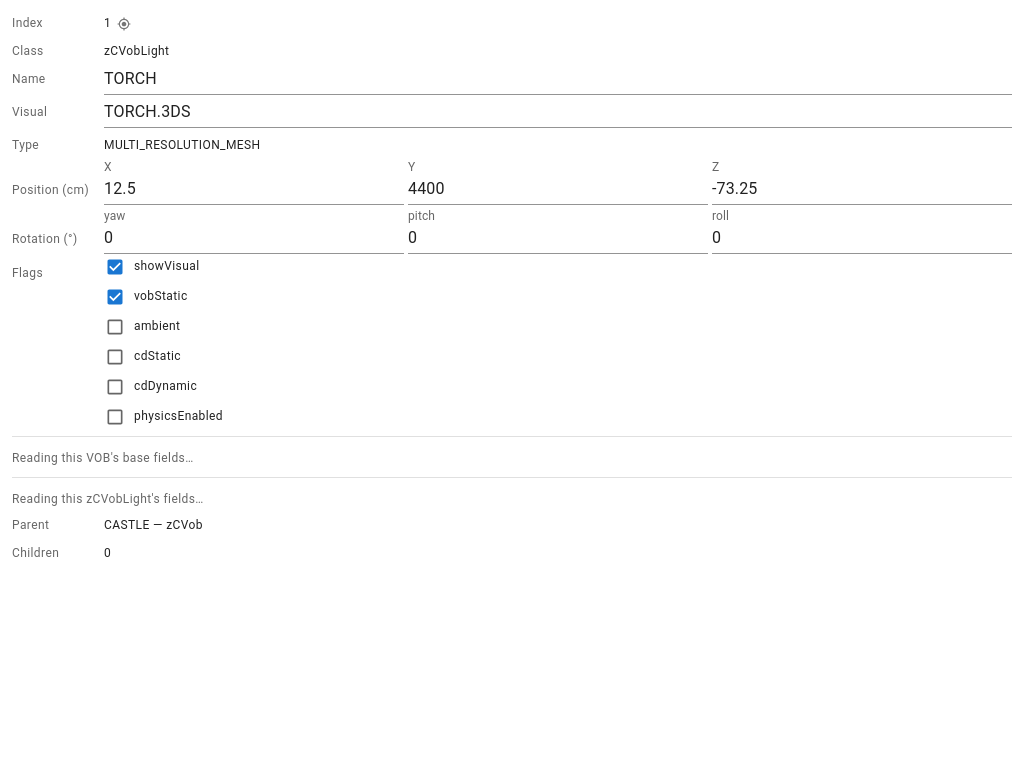
Test: WorldPropertyGrid, editing › reverts to the VOB's own value on Escape
Step 1. Replace the text in the field with test id "world-prop-name-input" with "TYPED_BY_MISTAKE" → (558, 80), box [104,66,1012,95]
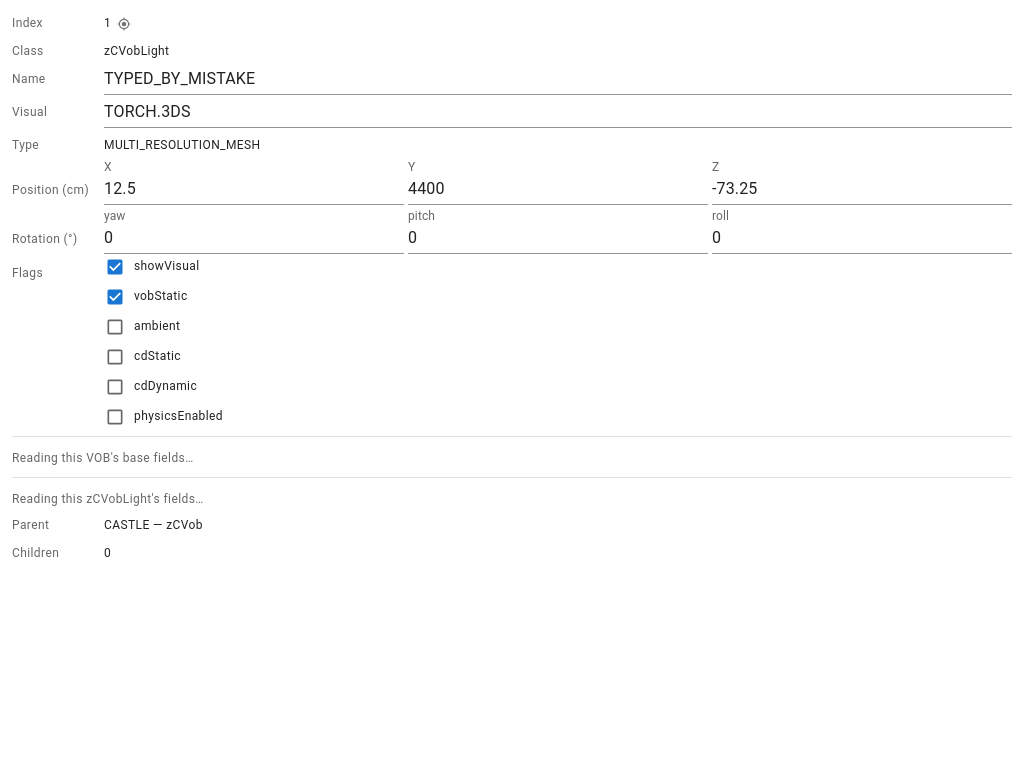
Step 2. Press Escape in the field with test id "world-prop-name-input", box [104,66,1012,95]
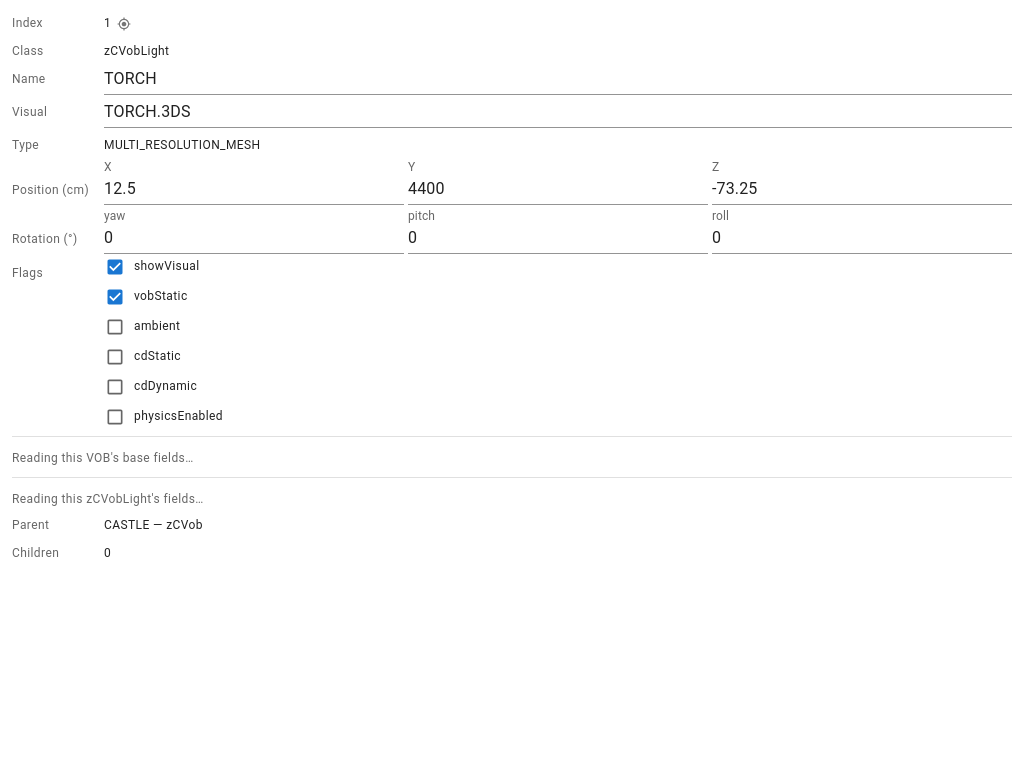
Result: the field with test id "world-prop-name-input" holds "TORCH" at [104,66,1012,95]
